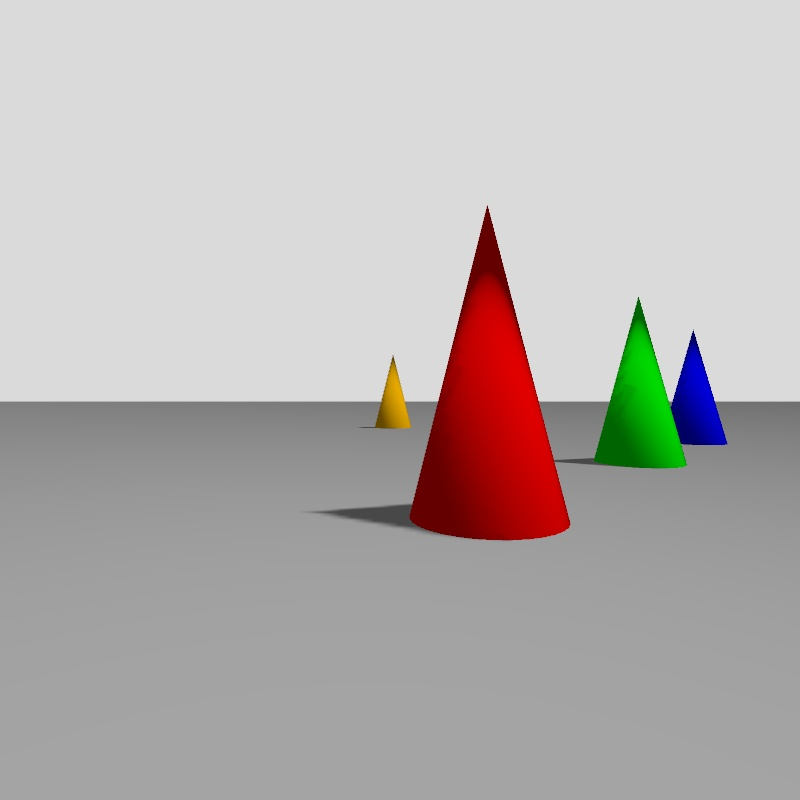Blue_cone: (671, 331, 726, 444)
Green_cone: (595, 298, 685, 467)
Orange_cone: (375, 357, 411, 427)
Red_cone: (409, 207, 569, 538)
